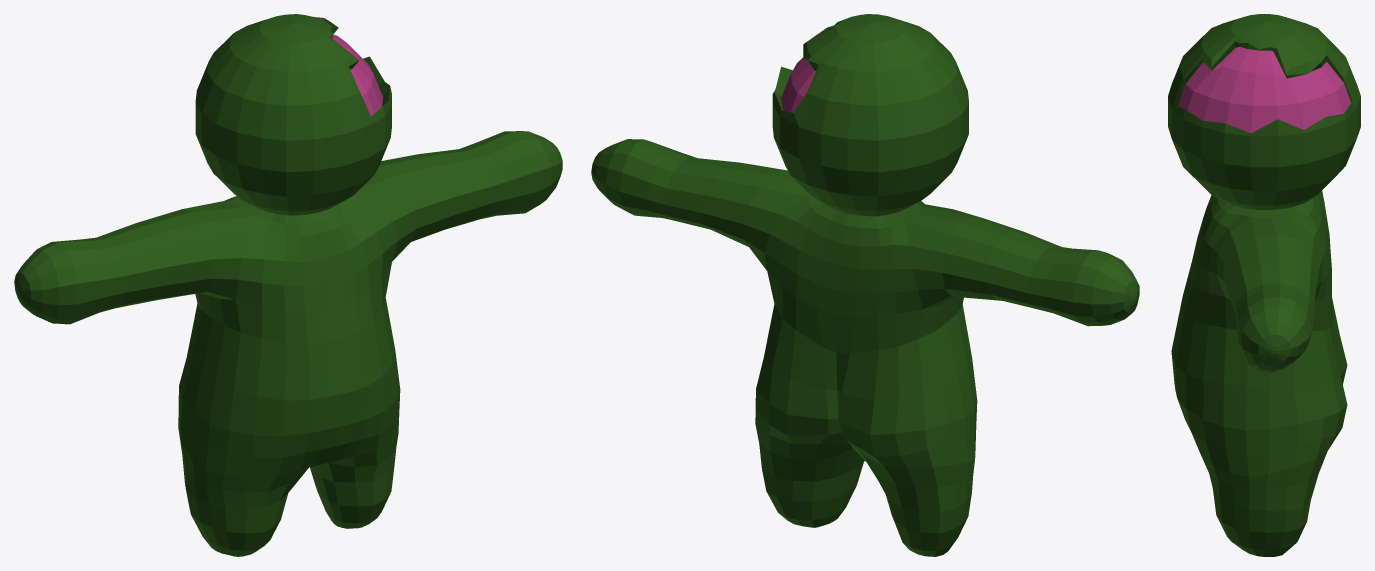
Rendered from ZombieFixed.fbx.
The picture shows the model from 3 angles, left to right: view 1: azimuth 30°, elevation 25°; view 2: azimuth 150°, elevation 25°; view 3: azimuth 270°, elevation 25°; orthographic projection. The views are drawn at different scales.
Parts seen in each view (by area): view 1: Zombee; view 2: Zombee; view 3: Zombee.
Part boxes in pixels (x1=…): Zombee: x1=14, y1=14, x2=562, y2=556; Zombee: x1=591, y1=14, x2=1139, y2=556; Zombee: x1=1168, y1=14, x2=1360, y2=556.
Size of the model in its own units: 4.35 by 3.98 by 1.38.
